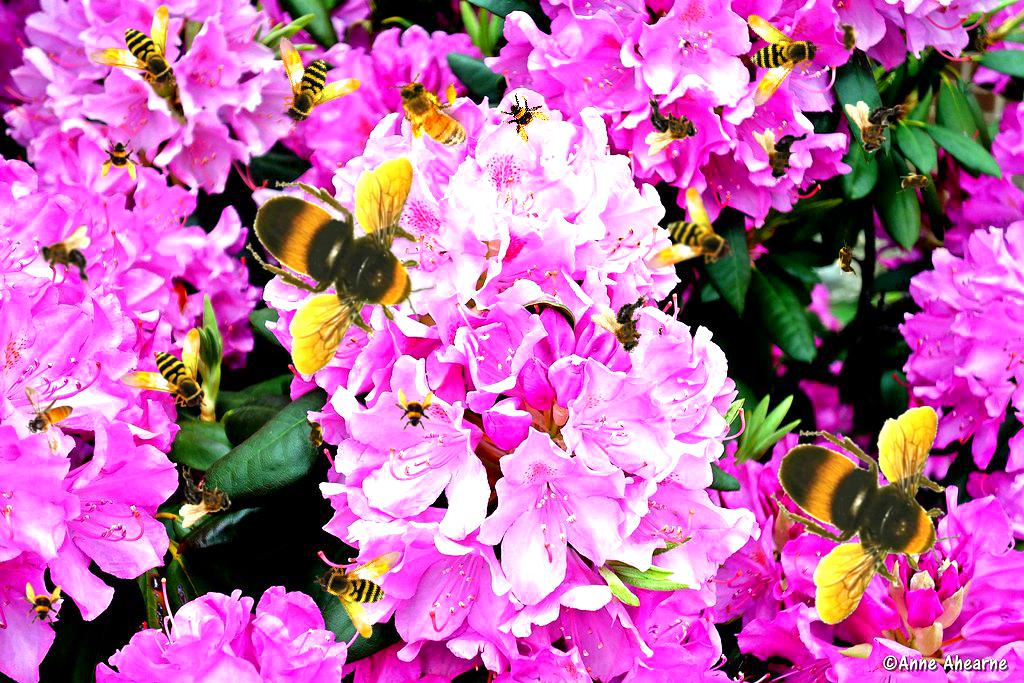Bee: (770, 406, 961, 626), (246, 157, 437, 377), (311, 526, 431, 646), (710, 5, 826, 123), (622, 181, 738, 295), (253, 14, 367, 130), (387, 63, 477, 172), (88, 5, 176, 87), (119, 328, 207, 410), (588, 289, 667, 363), (494, 85, 556, 147), (37, 224, 94, 290), (24, 385, 74, 456), (752, 128, 814, 181), (645, 94, 698, 156), (179, 466, 232, 528), (845, 101, 907, 154), (99, 137, 143, 181), (19, 582, 63, 626), (391, 388, 435, 432), (304, 415, 326, 455), (896, 172, 936, 194), (837, 18, 859, 58), (836, 239, 858, 279)
